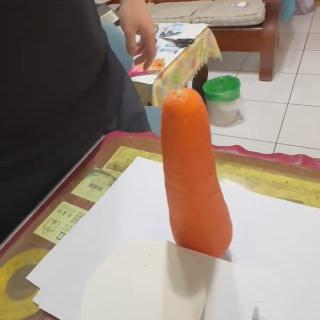carrot: (159, 87, 234, 261)
